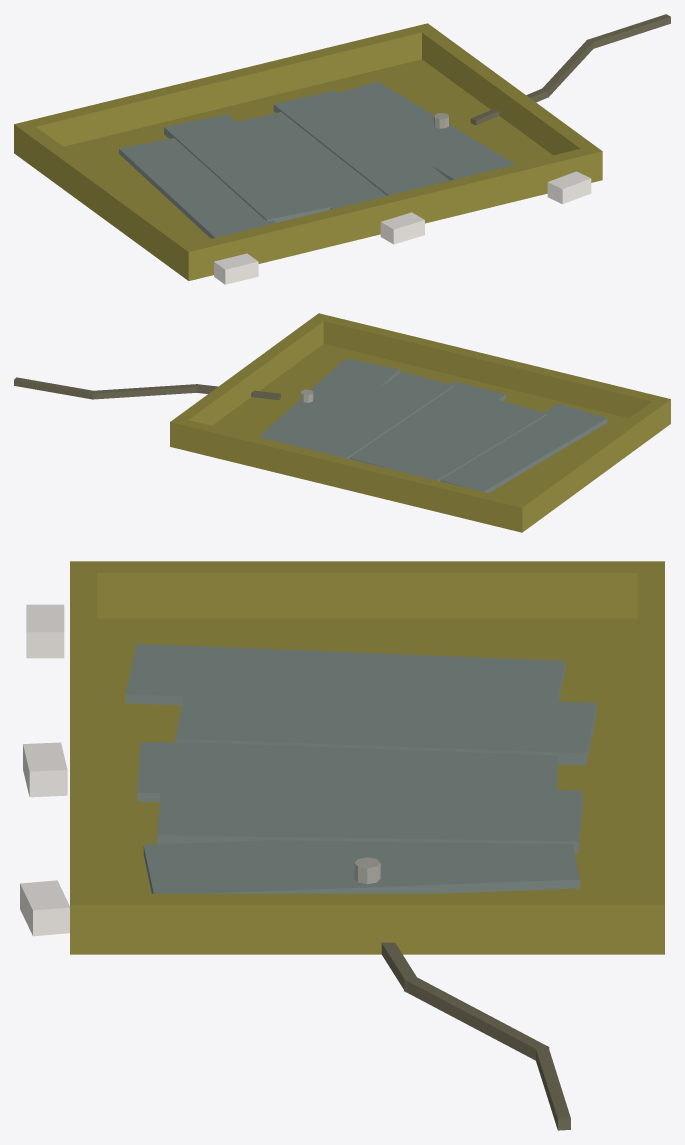
File: SM_CisternaFlexible_v2_Vacia_LOD0.fbx
3 renders of one model, top to bottom at view 1: azimuth 30°, elevation 25°; view 2: azimuth 150°, elevation 25°; view 3: azimuth 270°, elevation 25°, orthographic. The views are drawn at different scales.
Visible parts, largest first — view 1: SM_farp_betera_v2_LOD0; view 2: SM_farp_betera_v2_LOD0; view 3: SM_farp_betera_v2_LOD0.
Part boxes in pixels (<box>): SM_farp_betera_v2_LOD0: <box>14,14,670,284</box>; SM_farp_betera_v2_LOD0: <box>14,313,670,532</box>; SM_farp_betera_v2_LOD0: <box>20,561,664,1130</box>.
Size of the model in its own units: 11.26 by 0.5 by 5.91.
